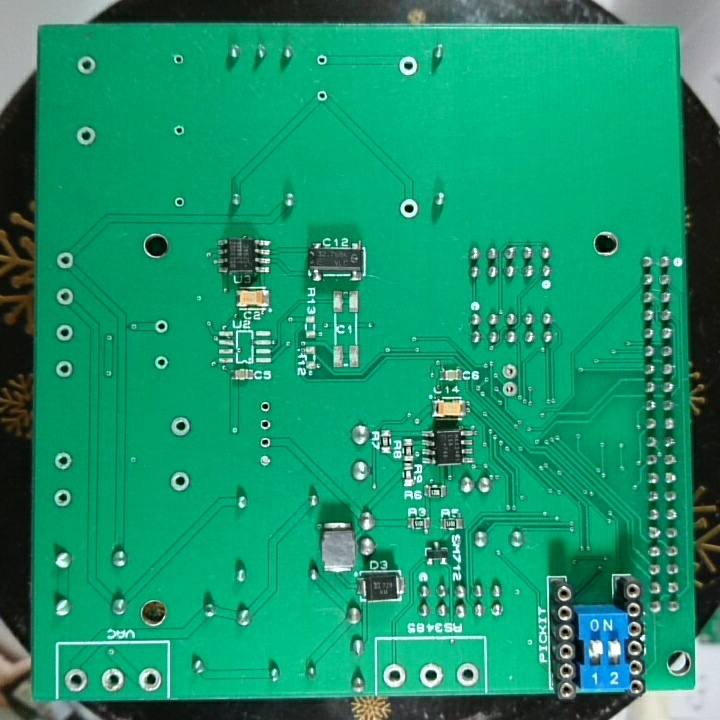F: (134, 665, 165, 695), (62, 665, 91, 696), (97, 665, 128, 694), (416, 661, 445, 689), (454, 660, 482, 689), (382, 661, 408, 692), (166, 468, 192, 495), (168, 414, 194, 439), (74, 124, 99, 149), (397, 54, 421, 80), (74, 54, 99, 78), (51, 450, 77, 473), (53, 357, 76, 382), (397, 197, 419, 223), (51, 486, 74, 509), (53, 249, 77, 271), (52, 286, 77, 307), (54, 323, 75, 343), (151, 353, 173, 372), (150, 316, 170, 336), (499, 361, 518, 380), (500, 380, 519, 398), (256, 451, 273, 469), (257, 396, 273, 415), (256, 434, 273, 451), (171, 52, 188, 68), (171, 195, 188, 210), (257, 418, 274, 433), (314, 52, 329, 68), (314, 87, 329, 103), (171, 123, 186, 139)
